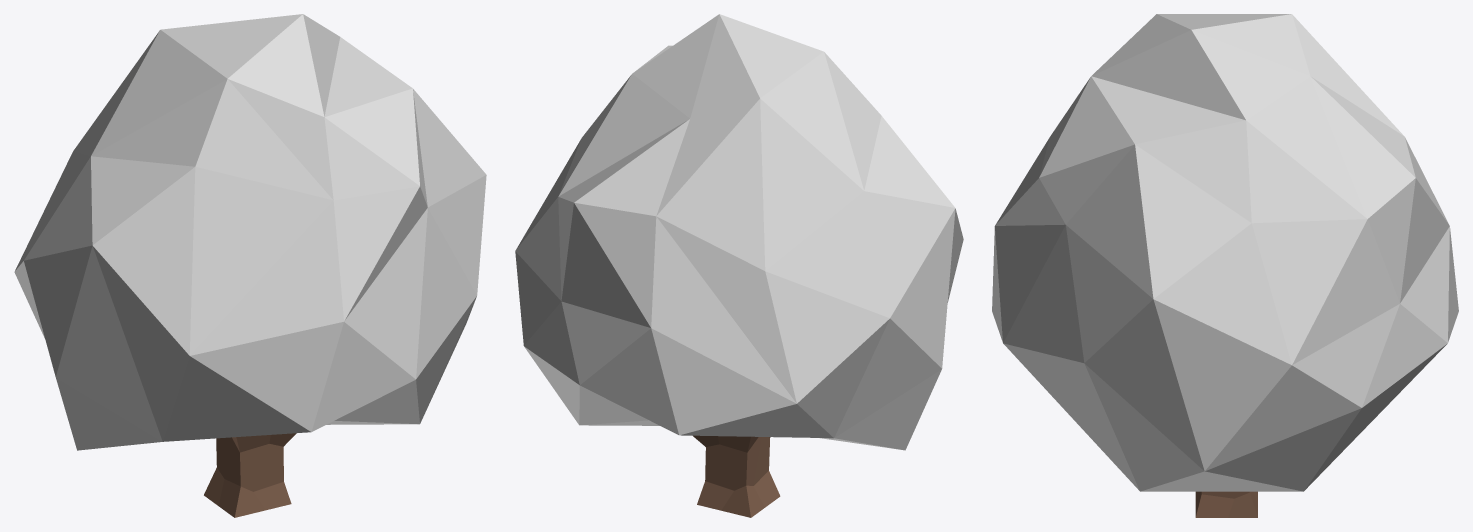
The model's file is Tree_15_White.fbx.
3 renders of one model, left to right at view 1: azimuth 30°, elevation 25°; view 2: azimuth 150°, elevation 25°; view 3: azimuth 270°, elevation 25°, orthographic. The views are drawn at different scales.
Parts seen in each view (by area): view 1: Tree_15_White_Part_1, Tree_15_White_Part_2; view 2: Tree_15_White_Part_1, Tree_15_White_Part_2; view 3: Tree_15_White_Part_1, Tree_15_White_Part_2.
Part boxes in pixels (bbox=[...]): Tree_15_White_Part_1: bbox=[14, 14, 486, 450]; Tree_15_White_Part_2: bbox=[204, 433, 296, 517]; Tree_15_White_Part_1: bbox=[515, 14, 963, 450]; Tree_15_White_Part_2: bbox=[693, 435, 780, 517]; Tree_15_White_Part_1: bbox=[992, 14, 1458, 491]; Tree_15_White_Part_2: bbox=[1195, 491, 1257, 517].
Size of the model in its own units: 691 by 786 by 675.
